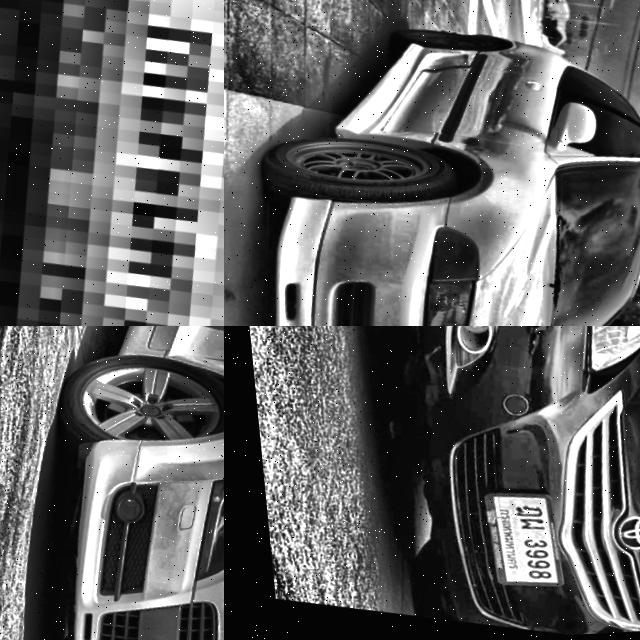license-plate: (0, 0, 224, 326), (450, 472, 573, 600)
